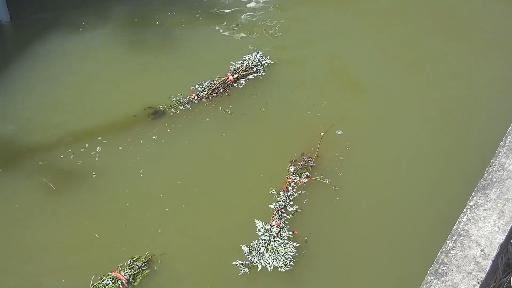twig: (227, 112, 348, 278), (141, 47, 278, 129), (81, 244, 159, 288)
